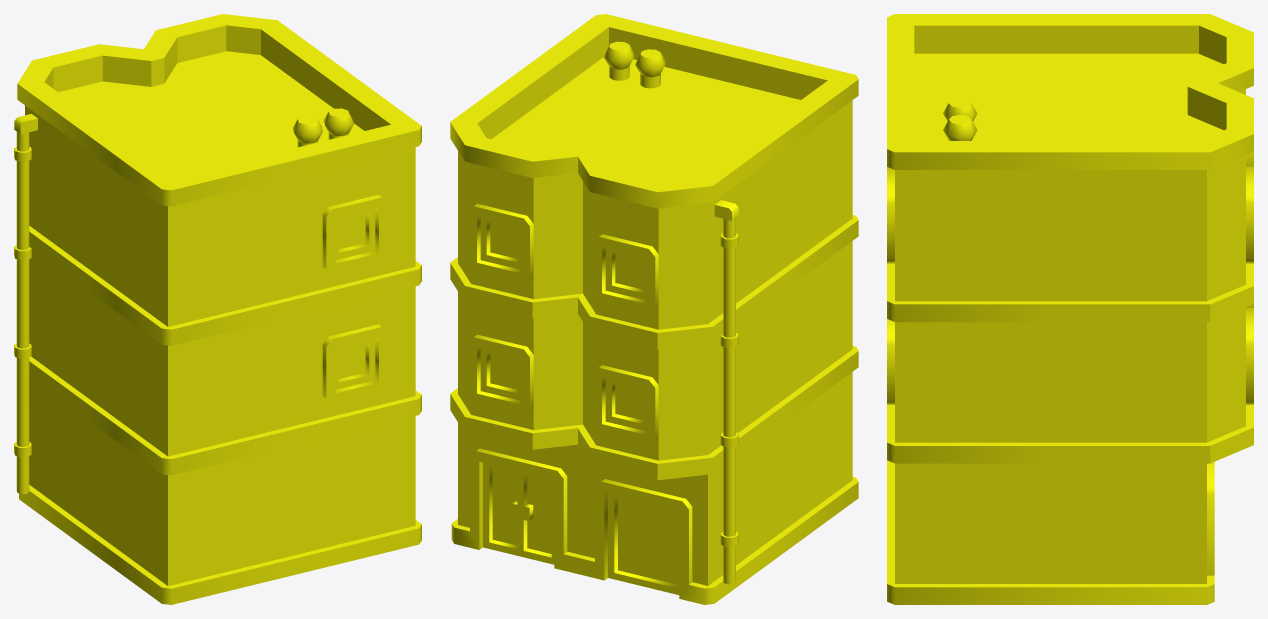
The model's file is commercial-0.glb.
The picture shows the model from 3 angles, left to right: view 1: azimuth 30°, elevation 25°; view 2: azimuth 150°, elevation 25°; view 3: azimuth 270°, elevation 25°; orthographic projection. The views are drawn at different scales.
Parts seen in each view (by area): view 1: building-a; view 2: building-a; view 3: building-a.
Part boxes in pixels (box(x1,y1,x2,y2)): building-a: box(14, 14, 421, 604); building-a: box(450, 14, 858, 604); building-a: box(887, 14, 1253, 604).
Bounding box in the file's own units: 0.8836 × 1.29 × 0.94.
1 material, 1 textured.
